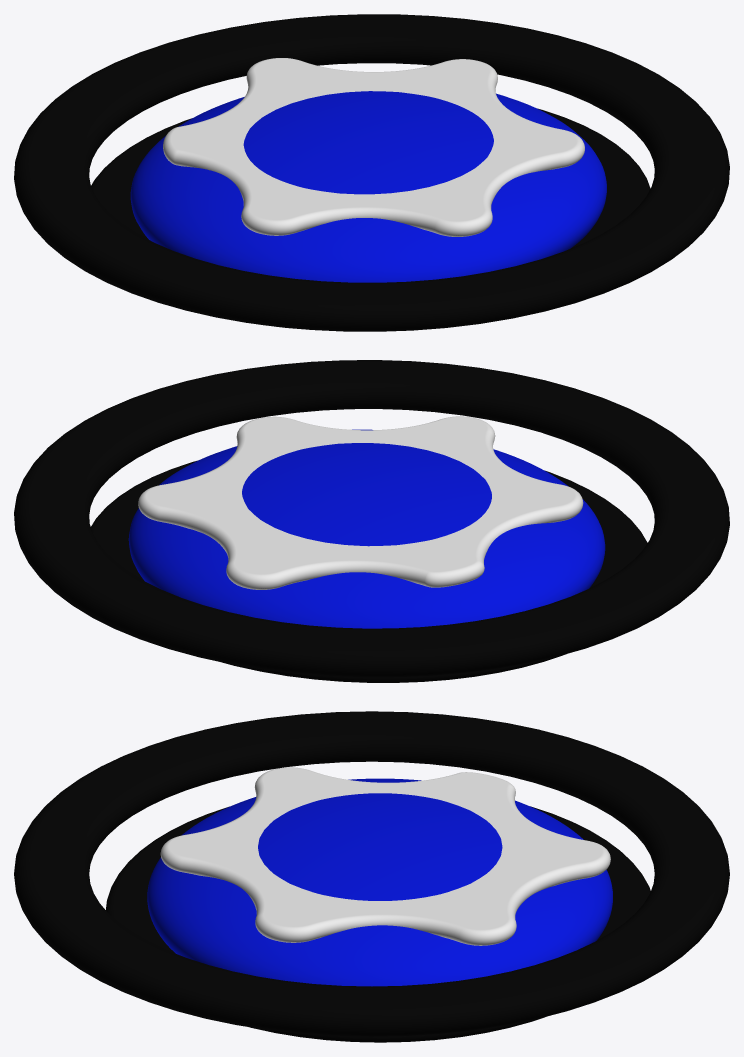
Rendered from receptorBLUE.glb.
3 views of the same model, one above another, from view 1: azimuth 30°, elevation 25°; view 2: azimuth 150°, elevation 25°; view 3: azimuth 270°, elevation 25° (orthographic).
Parts seen in each view (by area): view 1: Ellipse 4.001, Sphere 3, Star 3, Ellipse 4; view 2: Ellipse 4.001, Sphere 3, Star 3, Ellipse 4; view 3: Ellipse 4.001, Sphere 3, Star 3, Ellipse 4.
Boxes of the visible parts, bbox=[...] form: Ellipse 4.001: bbox=[14, 14, 729, 331]; Sphere 3: bbox=[130, 91, 606, 282]; Star 3: bbox=[163, 58, 584, 236]; Ellipse 4: bbox=[91, 108, 650, 329]; Ellipse 4.001: bbox=[14, 360, 729, 677]; Sphere 3: bbox=[128, 429, 605, 628]; Star 3: bbox=[138, 416, 583, 589]; Ellipse 4: bbox=[91, 460, 647, 682]; Ellipse 4.001: bbox=[14, 711, 729, 1036]; Sphere 3: bbox=[147, 778, 612, 986]; Star 3: bbox=[160, 767, 610, 945]; Ellipse 4: bbox=[106, 806, 650, 1042].
Size of the model in its own units: 4.3 by 0.766 by 4.23.
